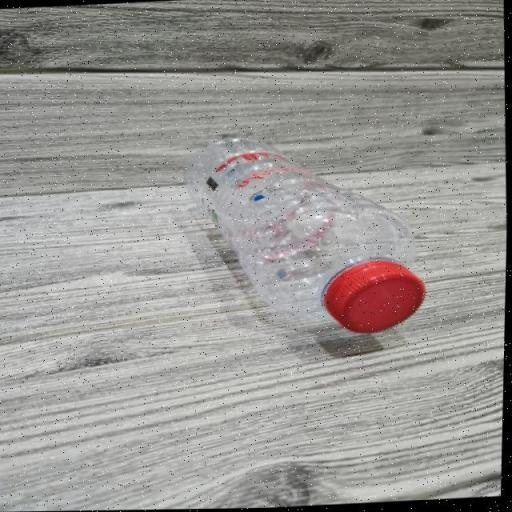plastic: (167, 124, 434, 349)
